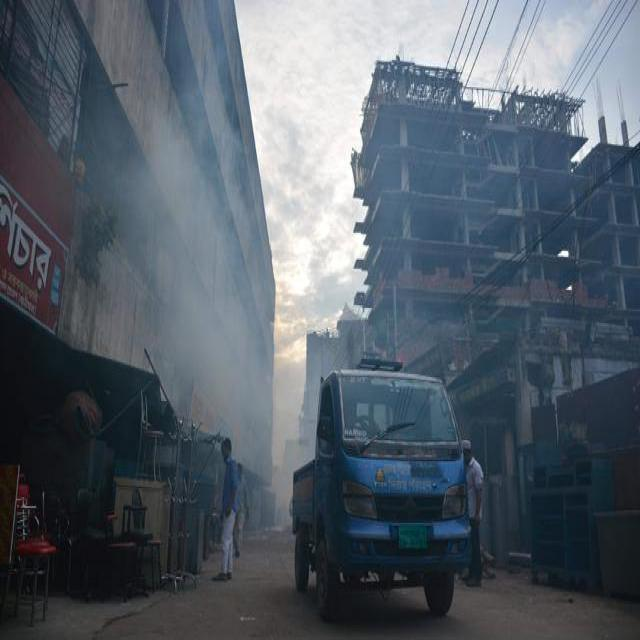vehicle: (292, 368, 472, 616)
